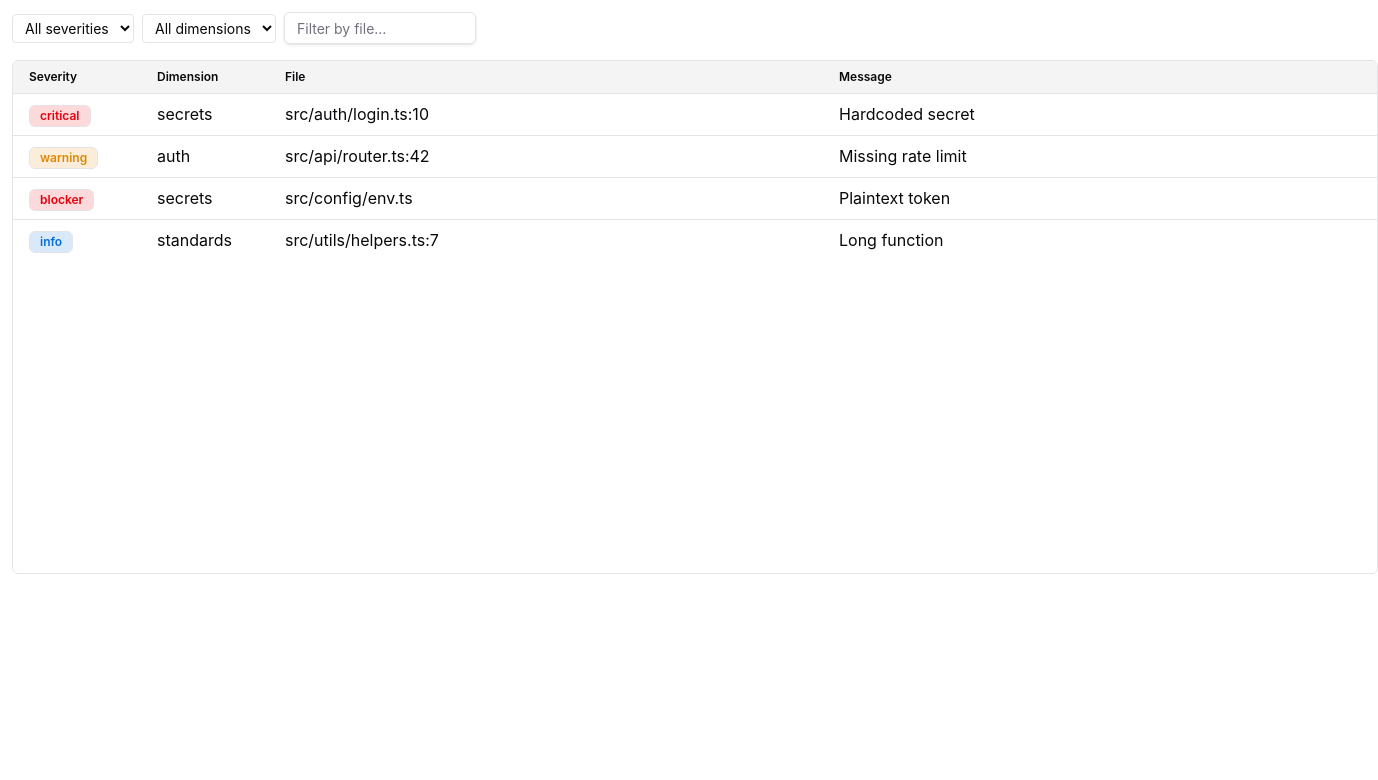
Scenario: FindingsTable › filters by dimension
Step 1. Select "secrets" in the dropdown named "dimension" → point(209, 28), box x1=142 y1=14 x2=276 y2=42
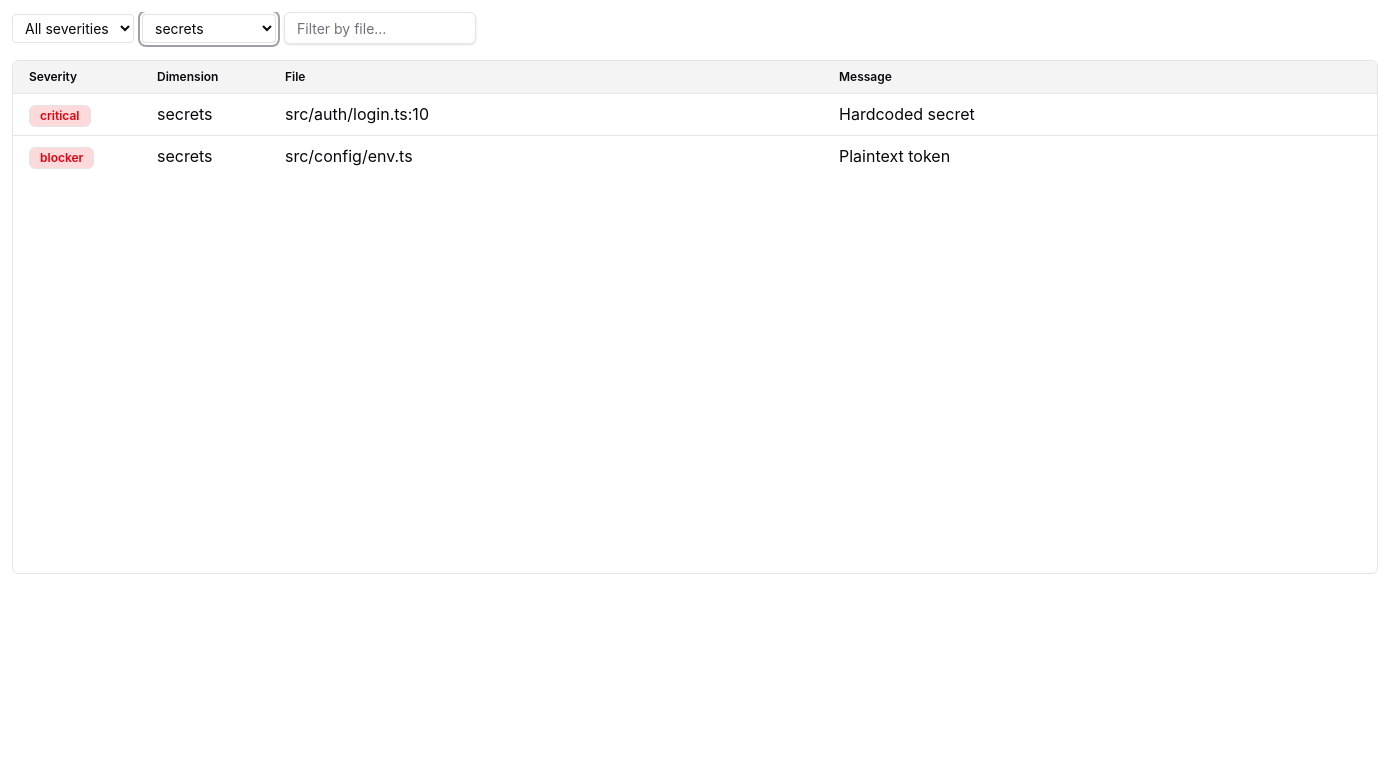
Expected: the text "Plaintext token" is shown, x1=839 y1=146 x2=950 y2=166
Expected: the text "Missing rate limit" is gone
Expected: the text "Long function" is gone
